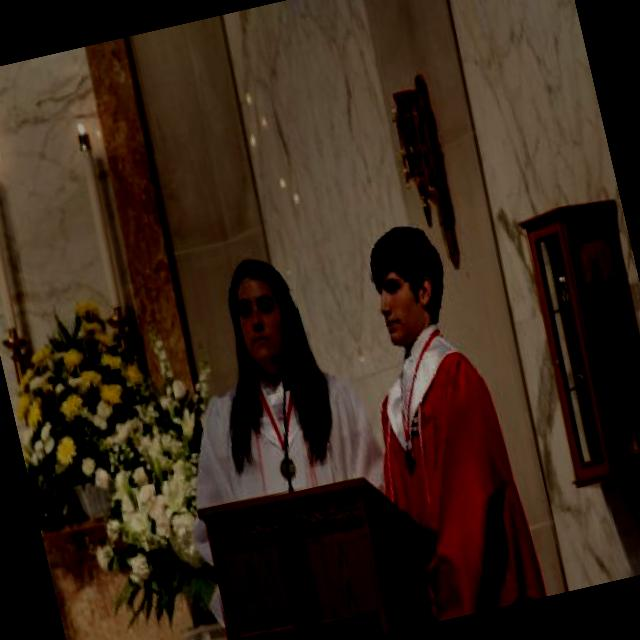Person: (134, 235, 416, 632), (324, 210, 554, 624)
